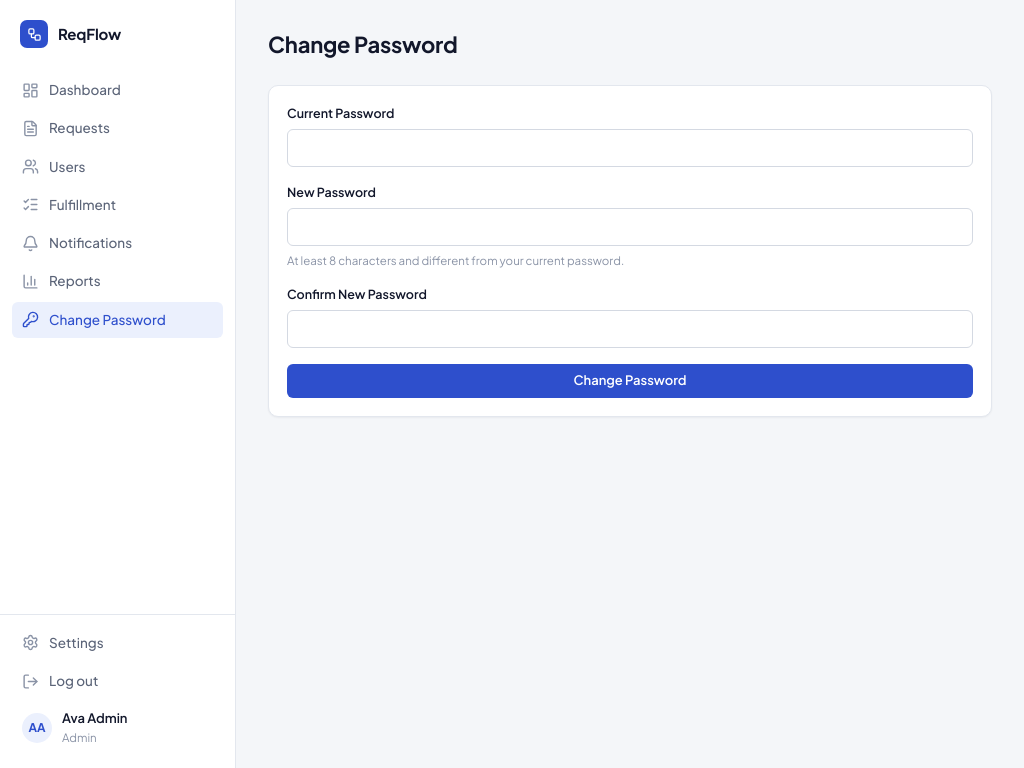
Scenario: self-service password change › requires all three fields and shows success after submitting the expected payload
In the password field labelled "Current Password": (630, 148) left=287, top=129, right=973, bottom=167, type "old-password-123"
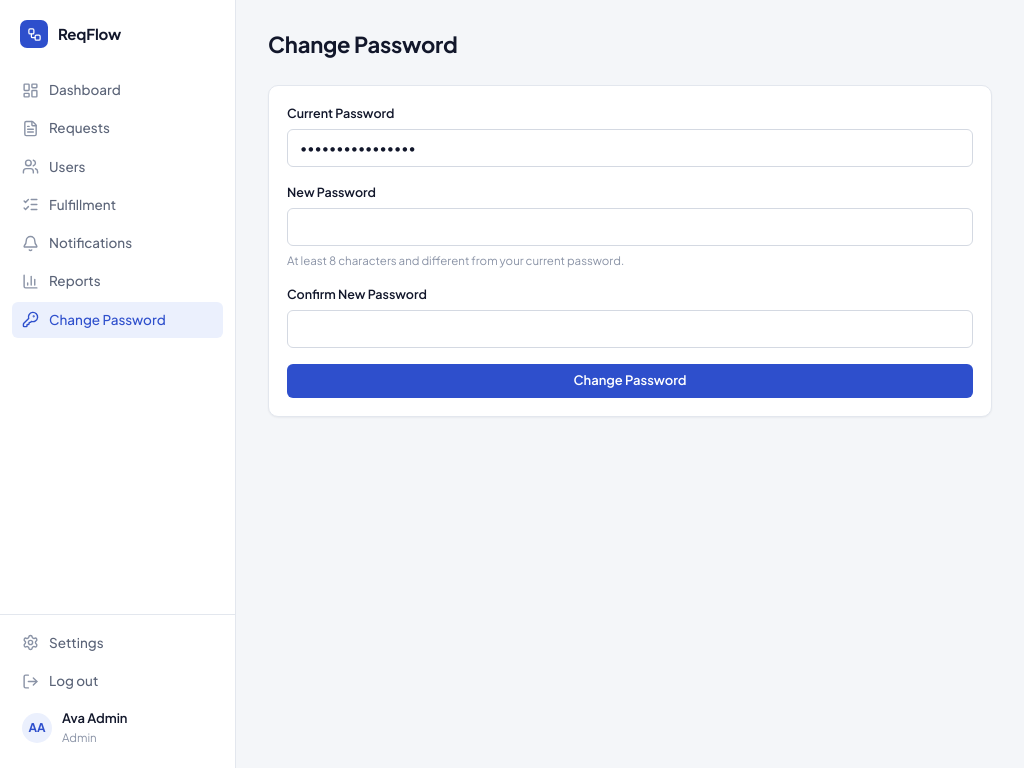
In the password field labelled "New Password": (630, 226) left=287, top=208, right=973, bottom=246, type "new-password-123"
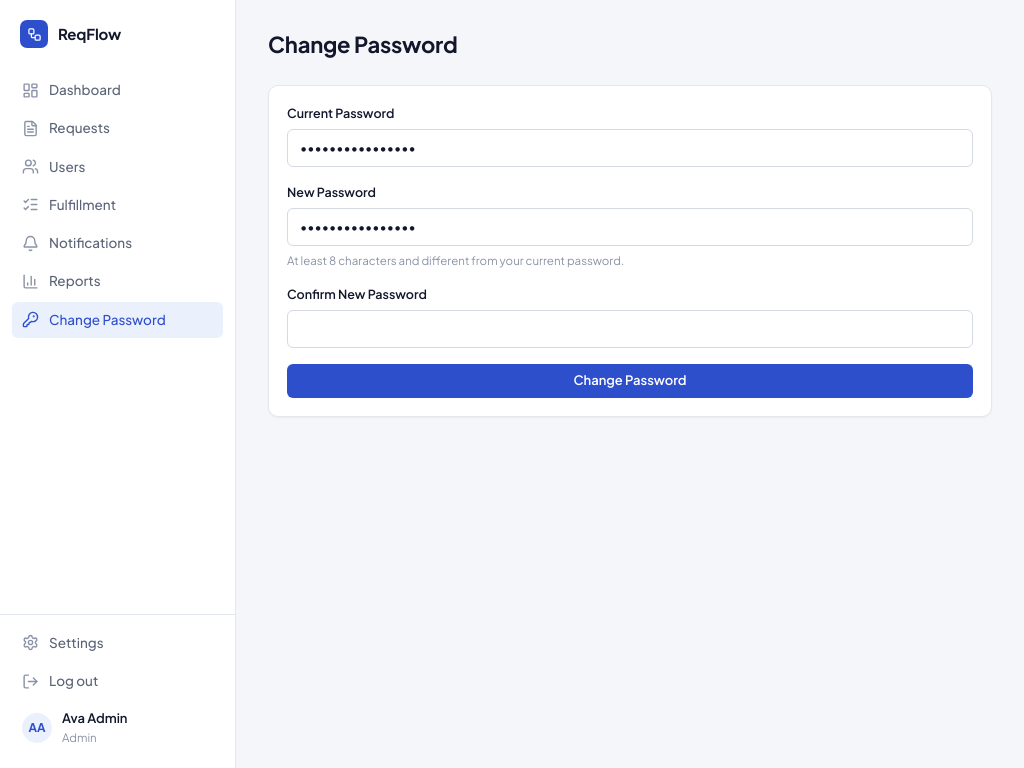
In the password field labelled "Confirm New Password": (630, 328) left=287, top=310, right=973, bottom=348, type "new-password-123"
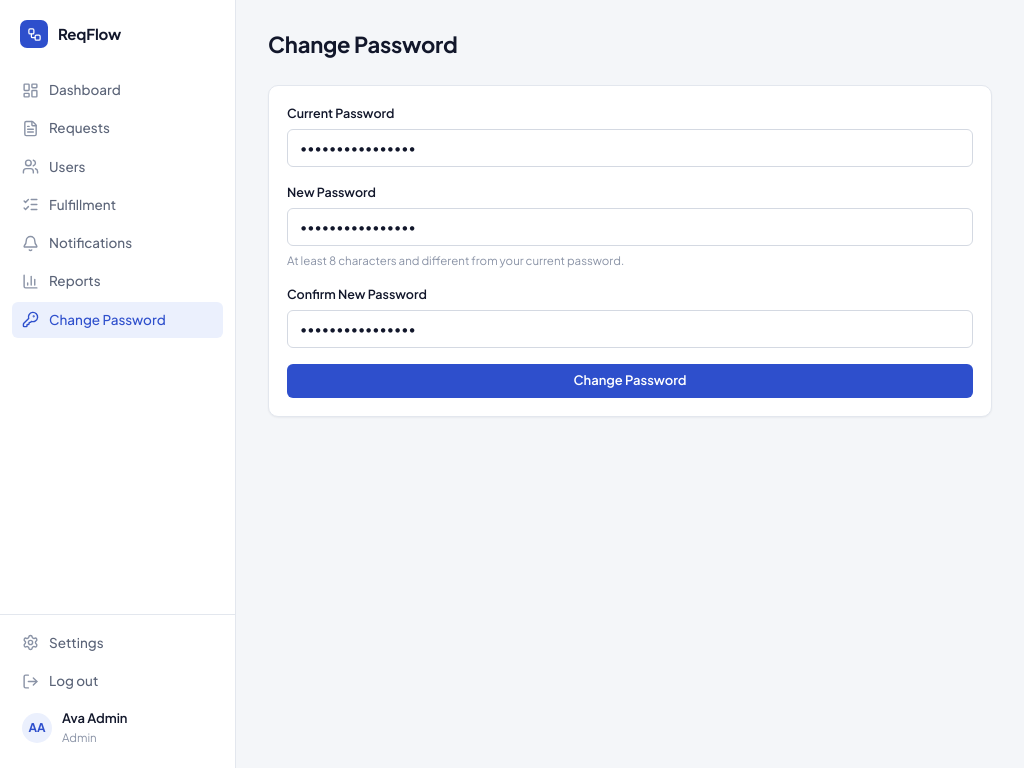
Click the button "Change Password": (630, 380) left=287, top=364, right=973, bottom=398
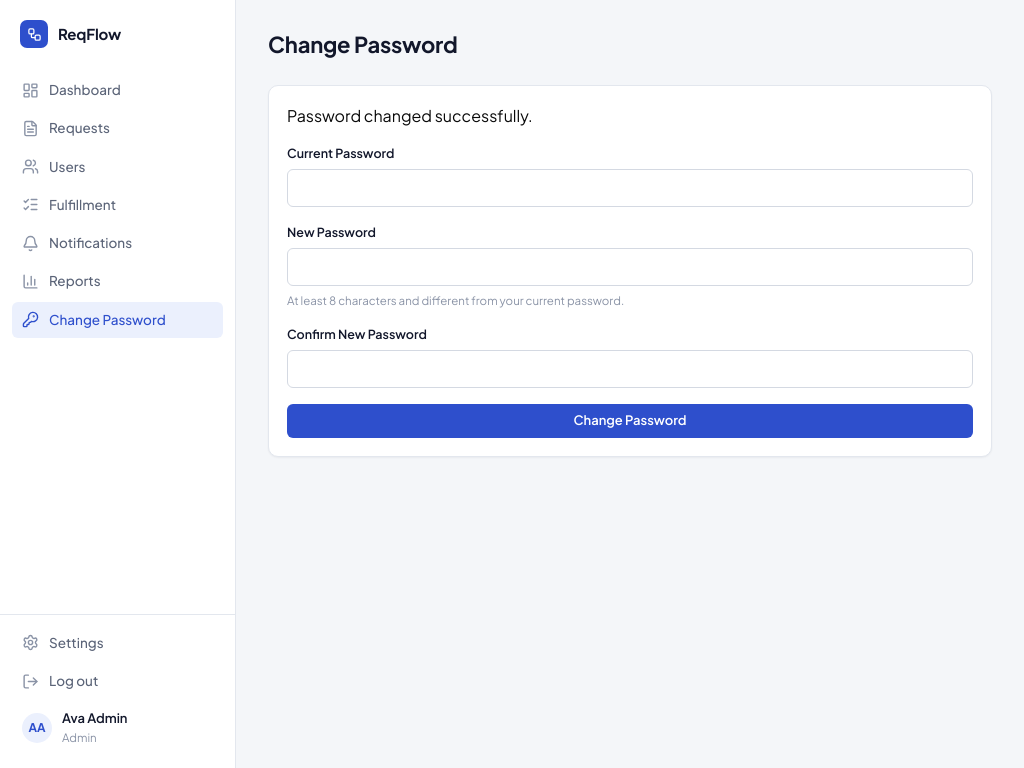
expect the text "Password changed successfully." is shown: met, box left=287, top=105, right=533, bottom=126
